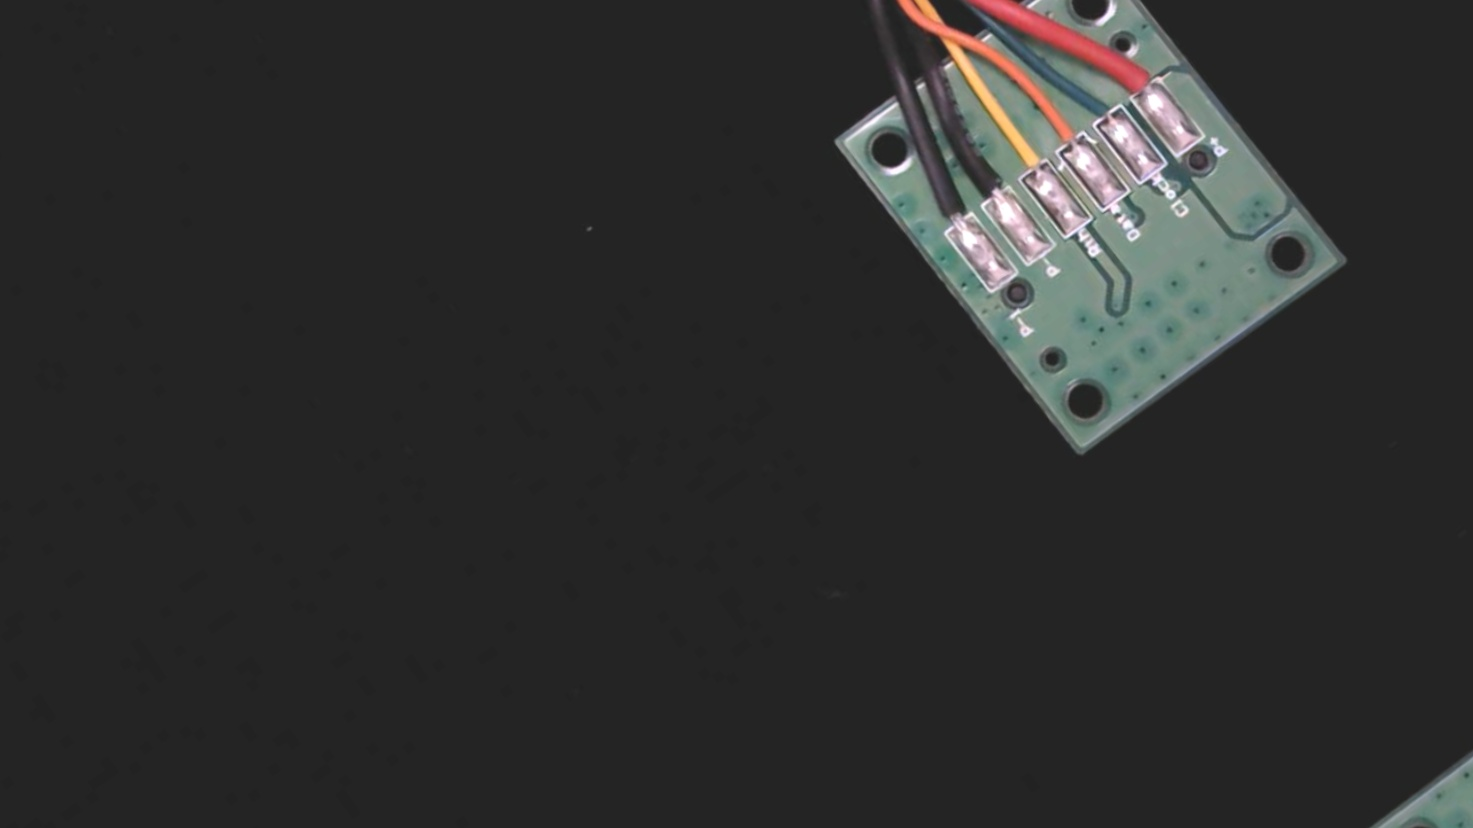Black: (947, 142, 1019, 218)
Black1: (909, 169, 983, 246)
Green: (1061, 64, 1134, 139)
Orange: (1024, 89, 1094, 163)
Red: (1095, 32, 1173, 112)
Yellow: (981, 110, 1058, 191)
